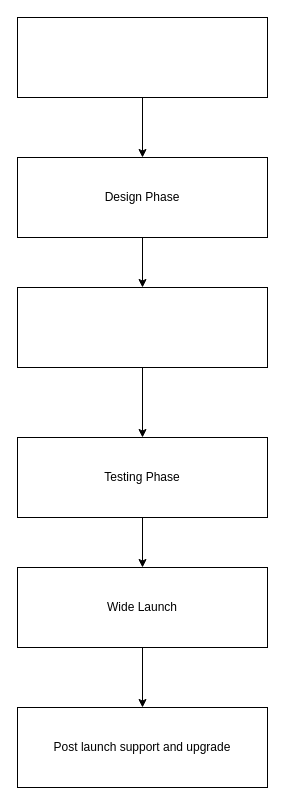
This 285x805 diagram has some shape labels left out. Here are the shapes that lost their labels. From the top down, the box of each, then its label:
(16, 16, 268, 98): Requrement Gathering and Research
(16, 286, 268, 368): Development Phase MVP
